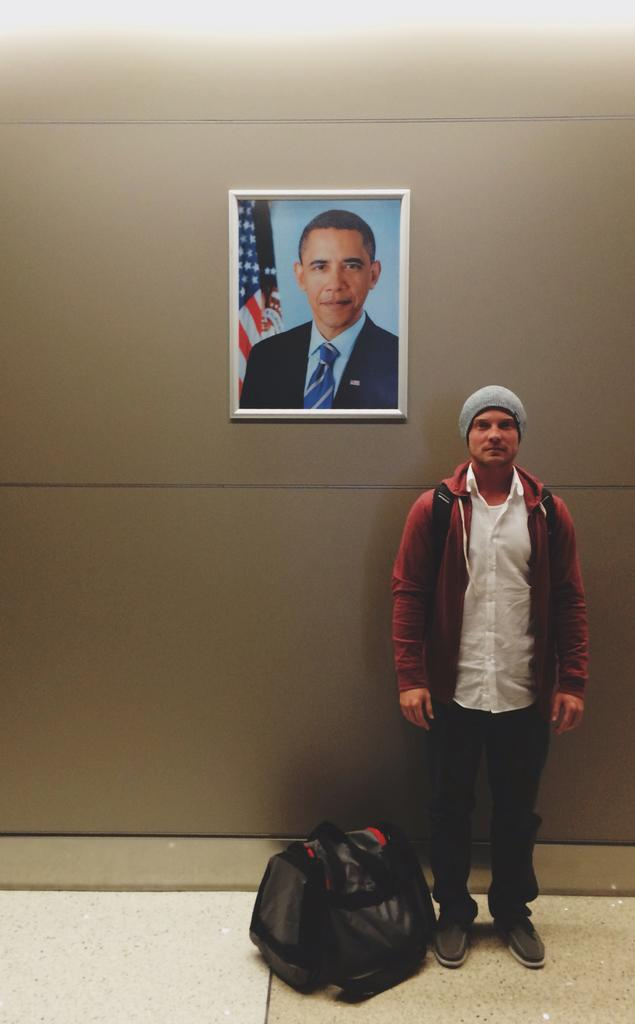Luggage-and-bags: (244, 820, 442, 1005)
